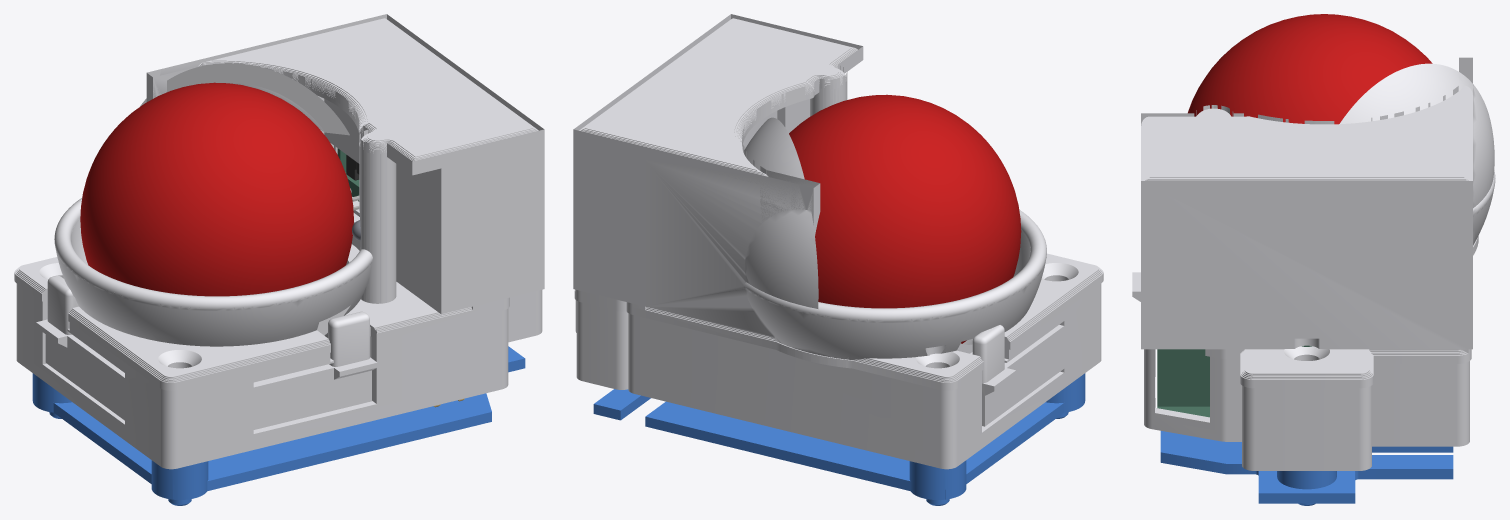
Rendered from PMW3610-side-pogo.glb.
3 renders of one model, left to right at view 1: azimuth 30°, elevation 25°; view 2: azimuth 150°, elevation 25°; view 3: azimuth 270°, elevation 25°, orthographic. The views are drawn at different scales.
Parts seen in each view (by area): view 1: TB_CART1; view 2: TB_CART1; view 3: TB_CART1, =>[0:1:1:9].
Part boxes in pixels (box(x1,y1,x2,y2)): TB_CART1: box(14, 14, 544, 505); TB_CART1: box(573, 14, 1103, 505); TB_CART1: box(1132, 14, 1495, 505); =>[0:1:1:9]: box(1157, 345, 1311, 406).
Bounding box in the file's own units: 0.0462 × 0.0334 × 0.0315.
